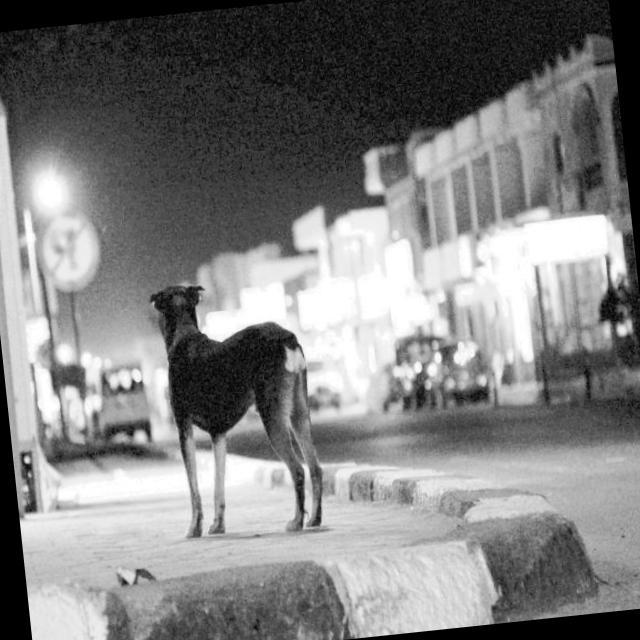Dog: (120, 265, 346, 534)
